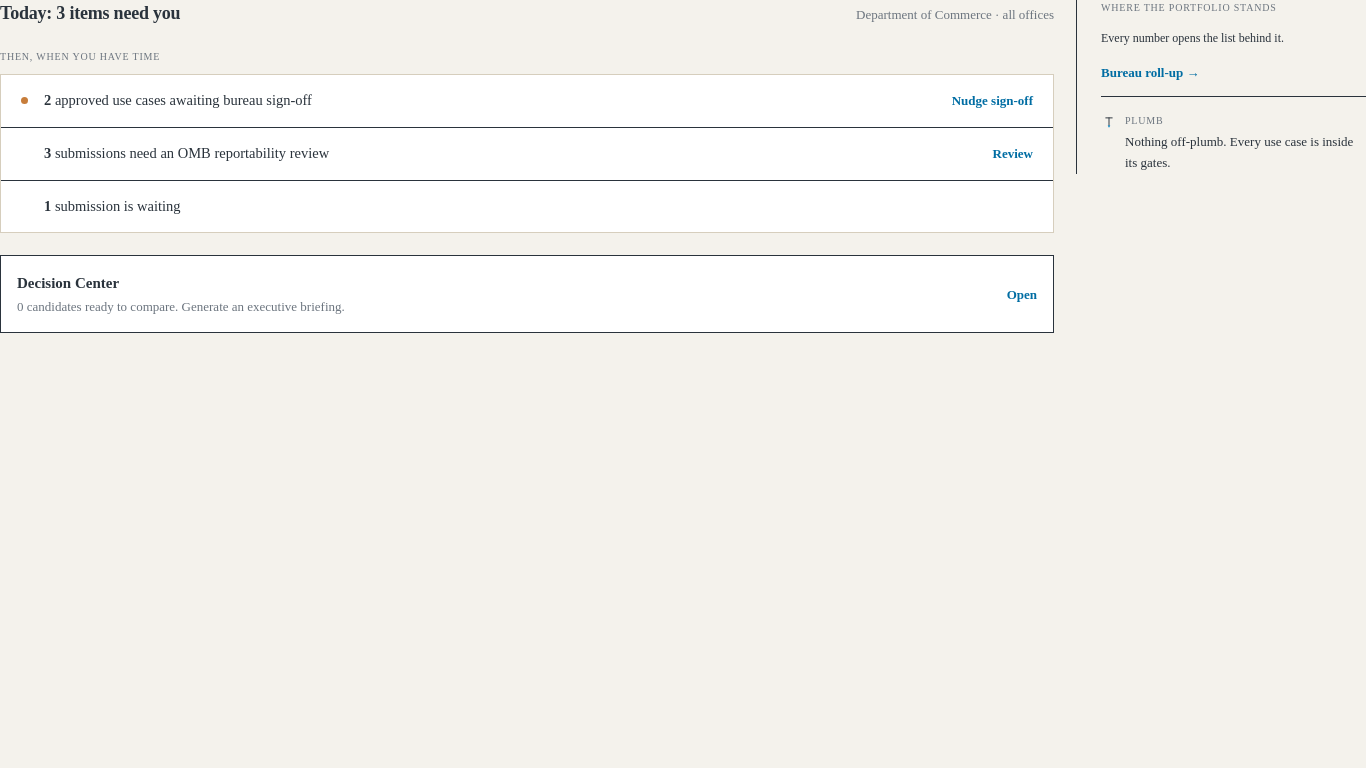
Test: CommandCenter rows › bolds the leading count and renders the right control for drilldown / onAction / neither
Expected: the text "3" is shown, [44, 145, 51, 161]
Step 1. Click the button "Review" → (1013, 154), box [993, 144, 1033, 163]
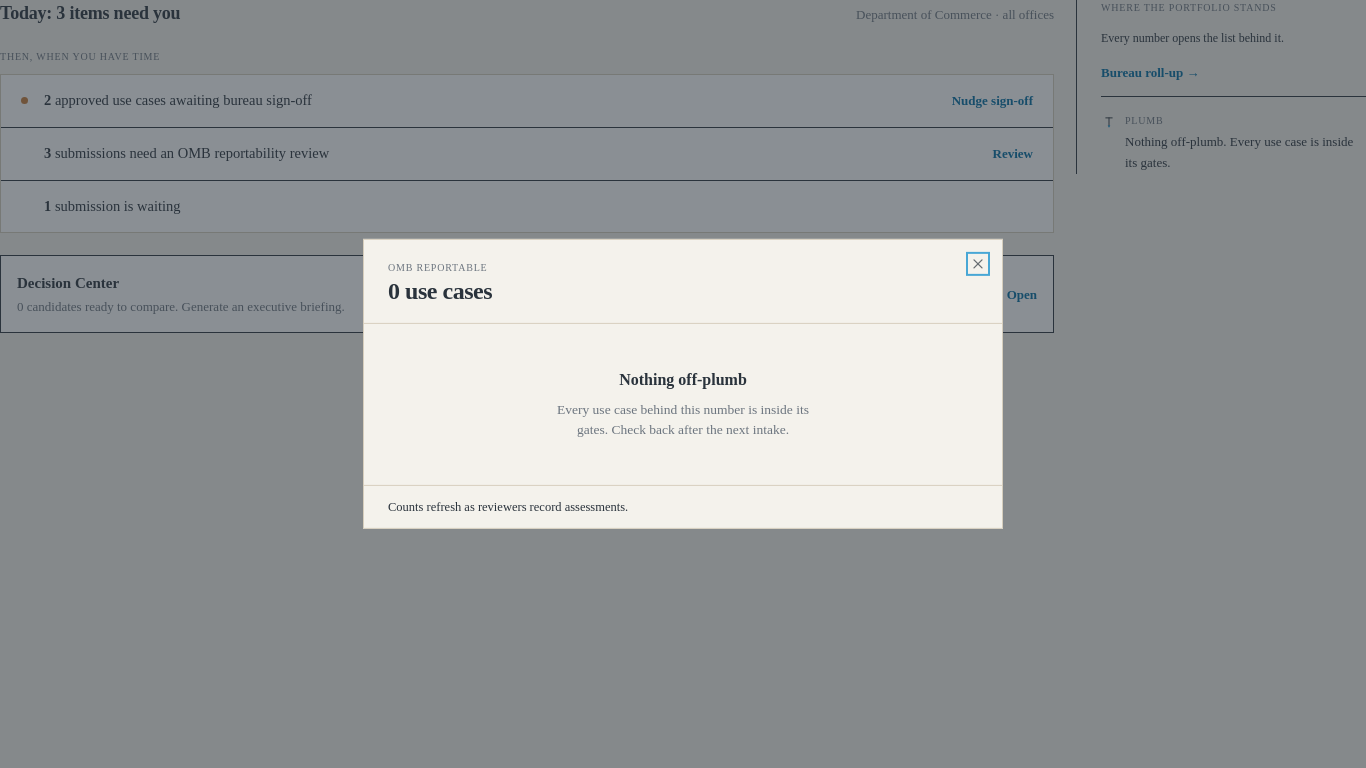
Expected: the text "2" is shown, [44, 92, 51, 108]
Now the dialog is shown, box [363, 239, 1003, 529]
